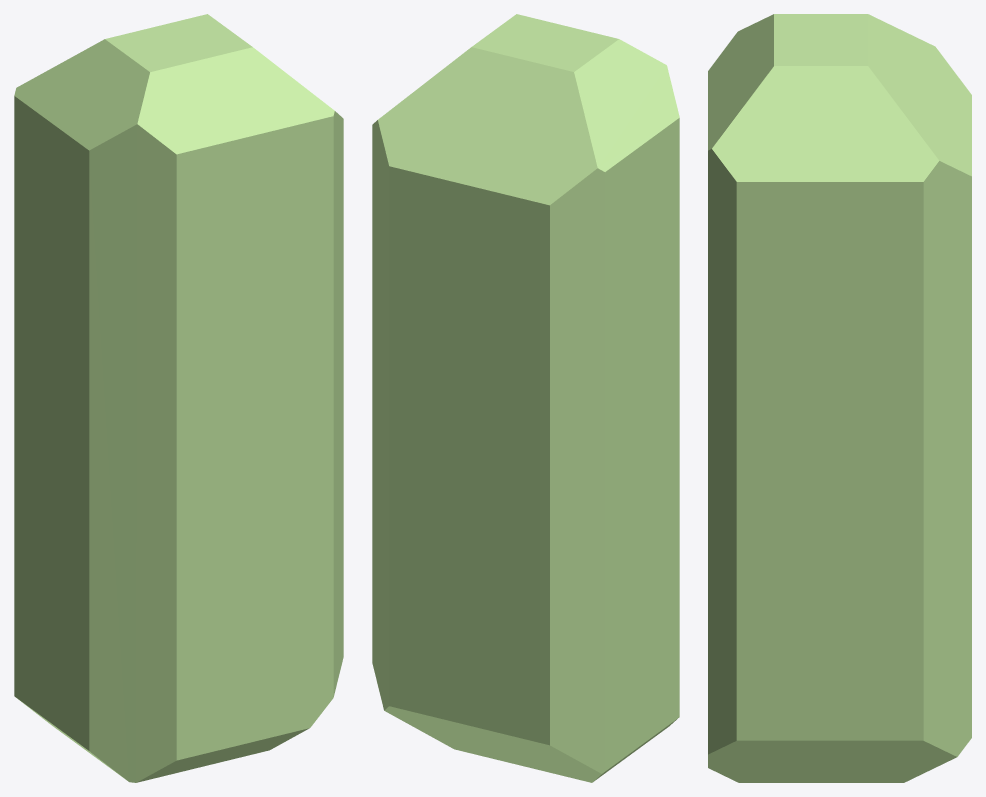
Rendered from ied.glb.
The picture shows the model from 3 angles, left to right: view 1: azimuth 30°, elevation 25°; view 2: azimuth 150°, elevation 25°; view 3: azimuth 270°, elevation 25°; orthographic projection. The views are drawn at different scales.
Visible parts, largest first — view 1: S1|SM_IED_Planted#0; view 2: S1|SM_IED_Planted#0; view 3: S1|SM_IED_Planted#0.
Part boxes in pixels (left/top/right/bottom): S1|SM_IED_Planted#0: left=14, top=14, right=343, bottom=782; S1|SM_IED_Planted#0: left=372, top=14, right=679, bottom=782; S1|SM_IED_Planted#0: left=708, top=14, right=971, bottom=782.
Size of the model in its own units: 0.1104 by 0.3084 by 0.1029.
